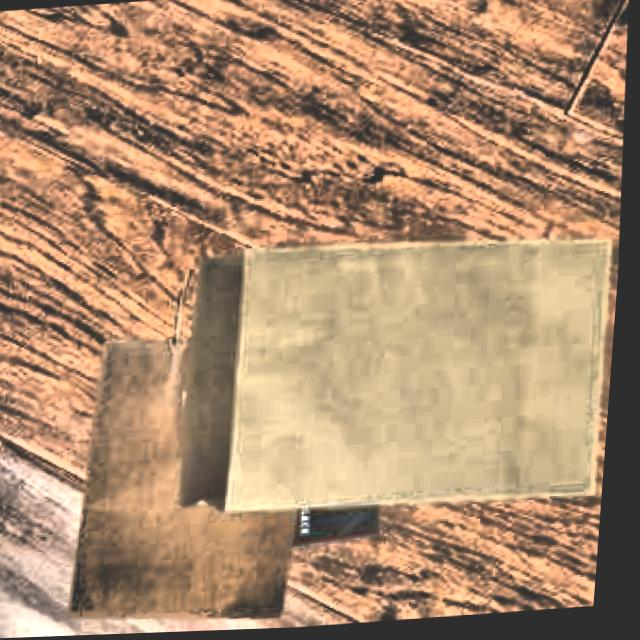Paper-bag: (166, 211, 627, 543), (75, 324, 342, 637)
